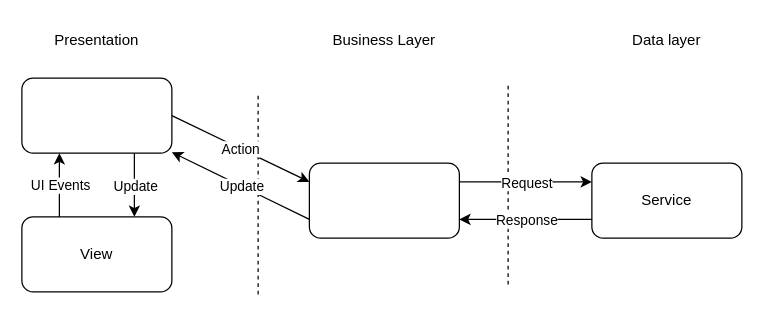
Image size: 764x318. Some labels were removed from this diagram. Each missing label, with the centre of its shape:
"Usecase" goes at (x=383, y=200).
"ViewModel" goes at (x=96, y=115).
